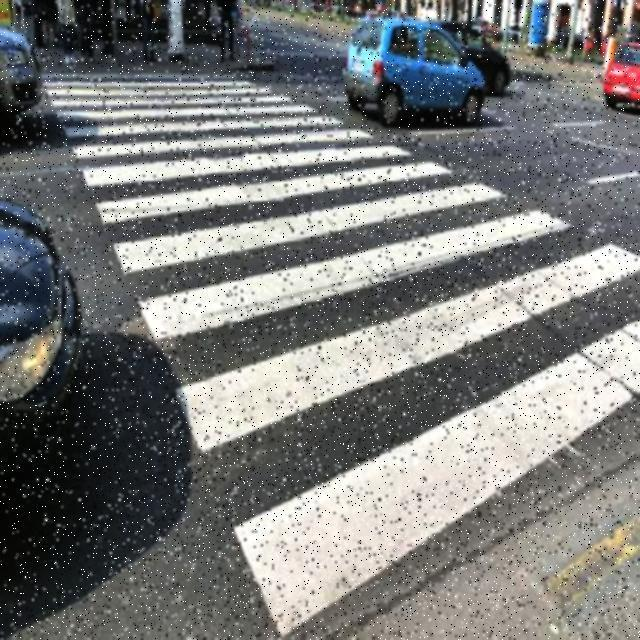crosswalk: (43, 77, 640, 639)
